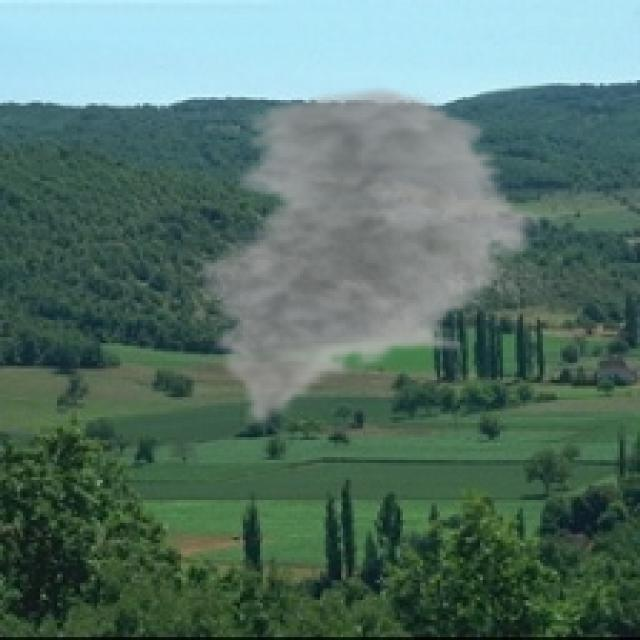smoke: (188, 83, 546, 428)
